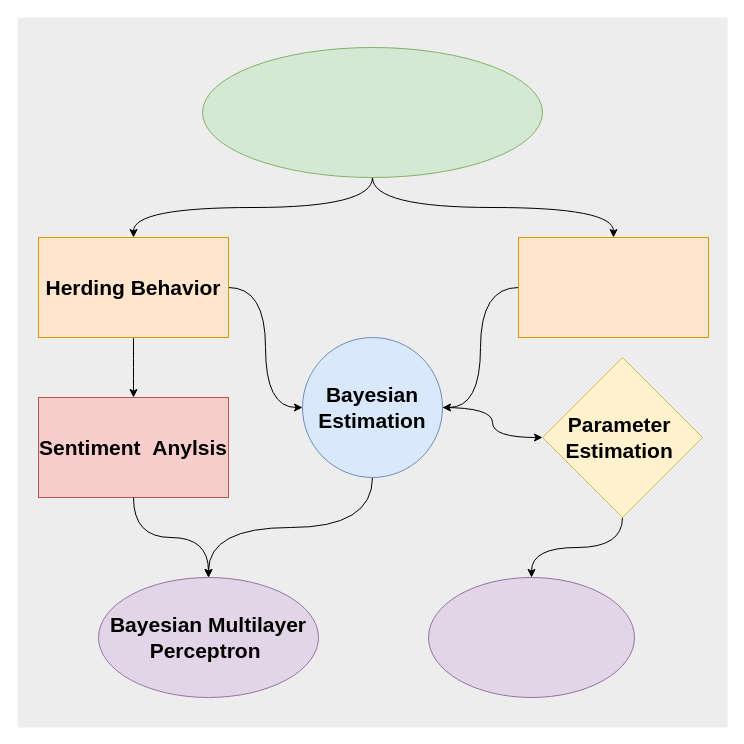
Image size: 744x744. Some labels were removed from this diagram. The centre of each missing label's shape, as x and y in pixels:
Price Prediction: the point at 613,287
Pricing Techniques: the point at 372,112
Stochastic Bayesian Neural Network: the point at 531,637
